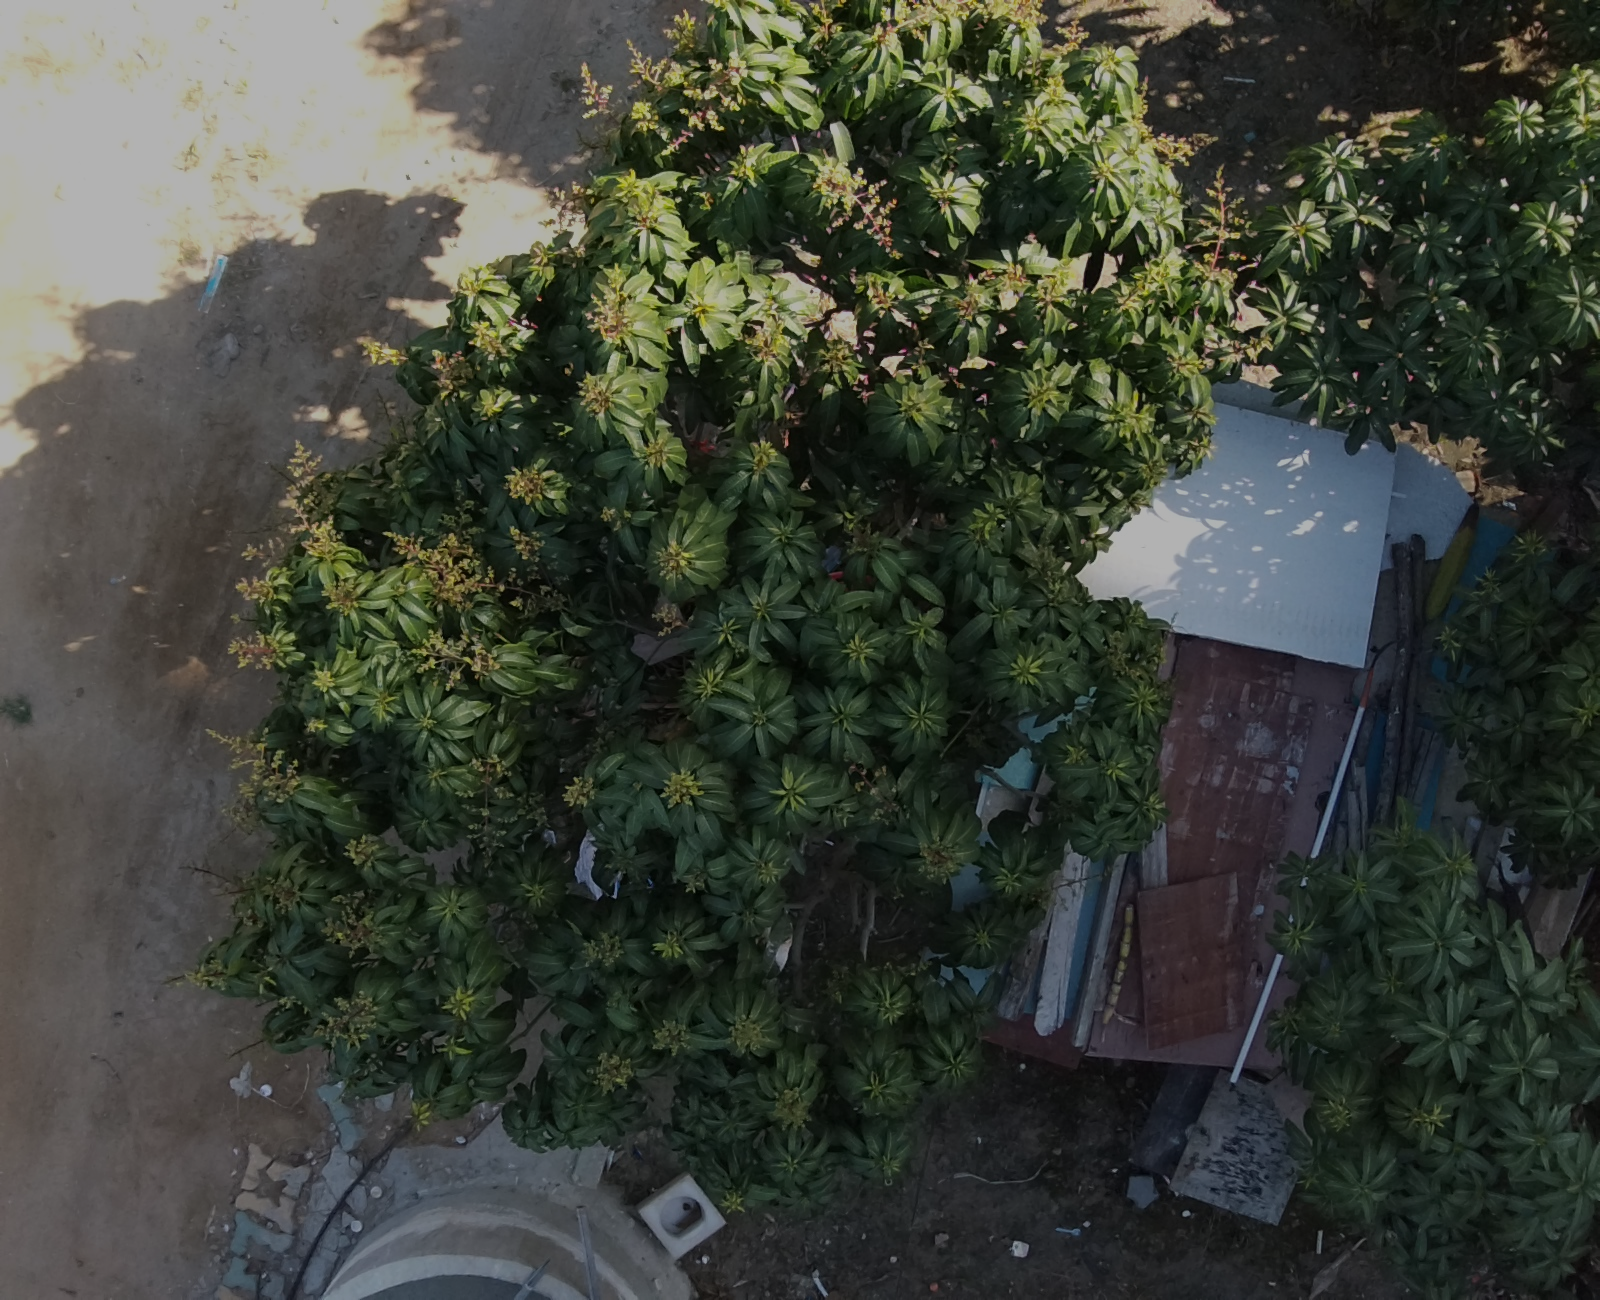flowers: (620, 12, 750, 166), (385, 496, 501, 610), (241, 443, 340, 573), (433, 757, 528, 852), (813, 157, 896, 253), (1189, 168, 1252, 281), (868, 0, 1041, 40), (207, 730, 301, 803), (507, 527, 565, 616), (411, 631, 498, 686), (320, 889, 371, 956), (233, 872, 297, 925), (318, 991, 378, 1045), (586, 267, 628, 344), (505, 459, 567, 505), (470, 320, 535, 358), (1152, 133, 1215, 164), (744, 321, 789, 363), (972, 0, 1043, 27), (592, 1051, 634, 1090), (771, 1086, 811, 1128), (661, 769, 703, 804), (584, 931, 624, 967), (578, 374, 612, 415), (653, 1020, 690, 1055), (730, 1016, 763, 1053), (345, 833, 379, 868), (325, 580, 358, 614), (509, 527, 543, 561), (651, 600, 685, 634), (563, 775, 594, 807), (653, 929, 682, 960), (1014, 653, 1043, 684), (678, 868, 704, 893), (310, 669, 334, 691)
